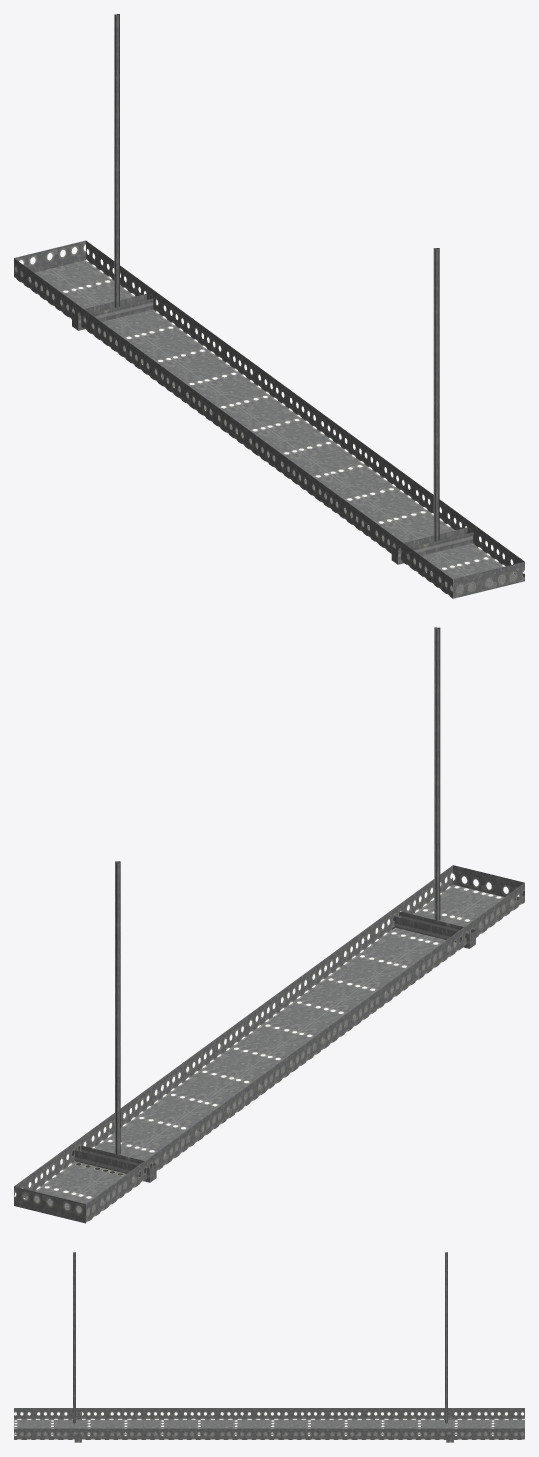
The model's file is CableGutter.fbx.
3 views of the same model, one above another, from view 1: azimuth 30°, elevation 25°; view 2: azimuth 150°, elevation 25°; view 3: azimuth 270°, elevation 25° (orthographic). The views are drawn at different scales.
Parts seen in each view (by area): view 1: CableGutter; view 2: CableGutter; view 3: CableGutter.
Part boxes in pixels (x1,y1,x2,y2): CableGutter: (14,14,524,598); CableGutter: (14,627,524,1223); CableGutter: (14,1252,524,1442).
Size of the model in its own units: 41.05 by 154 by 400.
